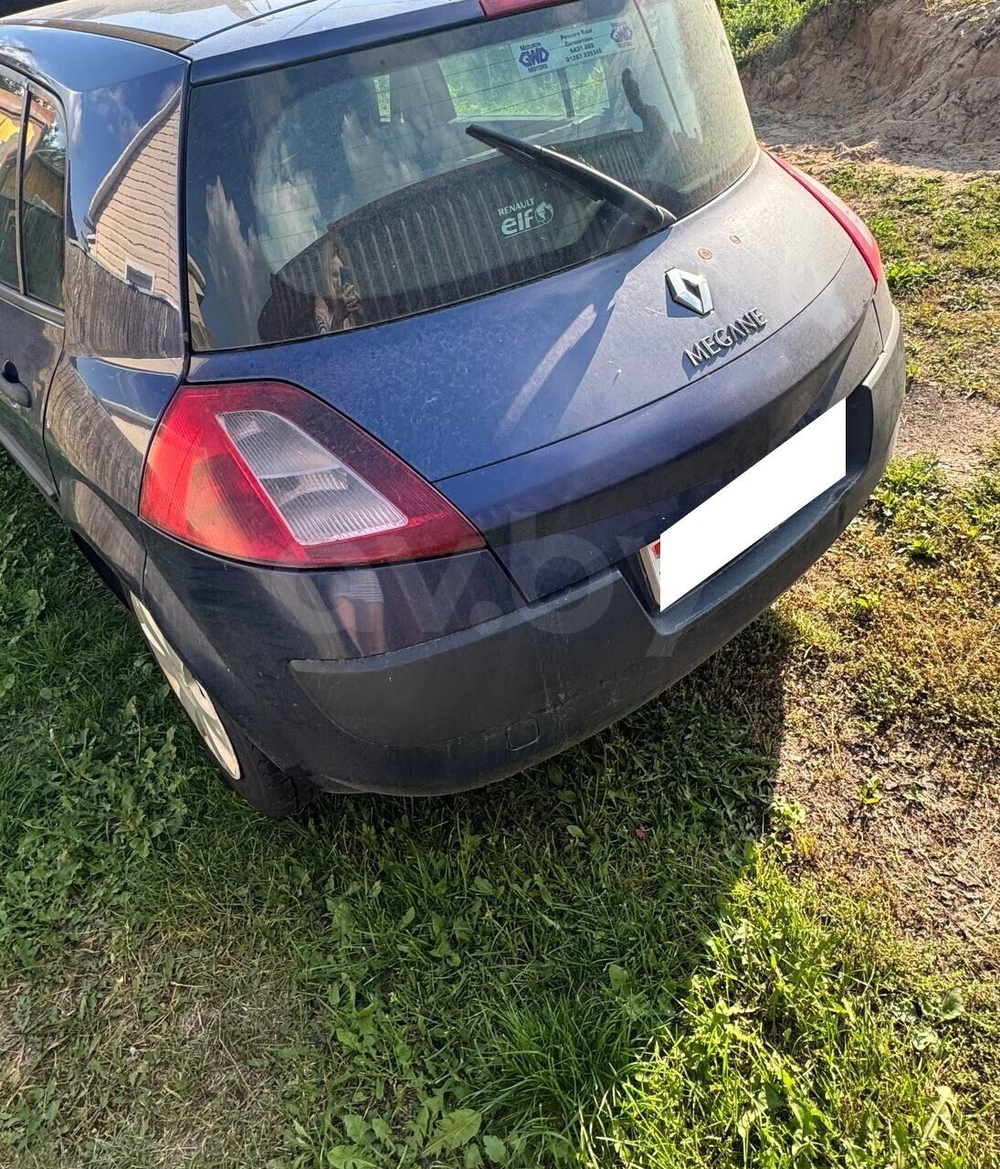Megane_2002-2006: (0, 0, 905, 832)
